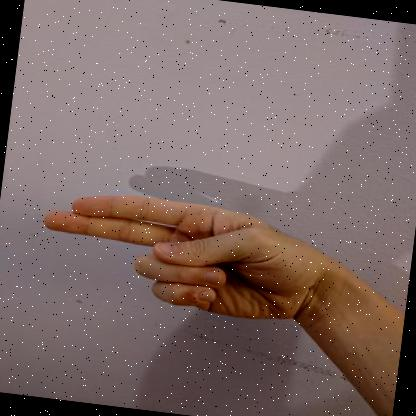H: (43, 195, 324, 331)
